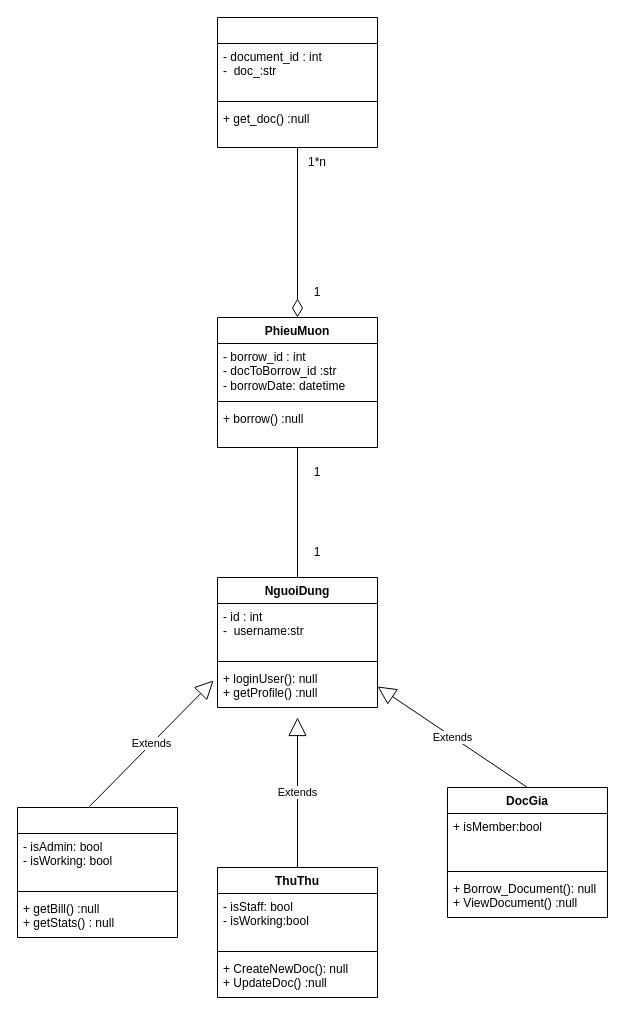
The diagram is 625 pixels wide and 1018 high, and some of its shapes have lost their labels. Each missing label, with the box of its shape:
QuanLy: (16, 806, 178, 938)
TaiLieu: (216, 16, 378, 148)
